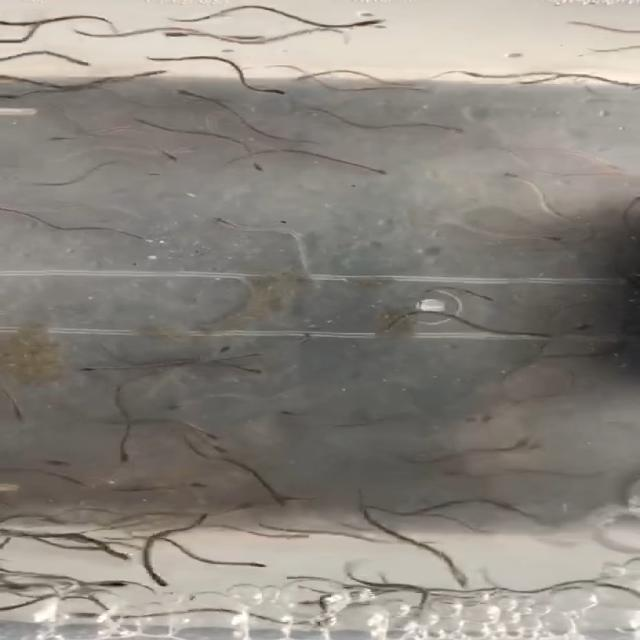active_glass_eel: (31, 451, 73, 468), (58, 607, 104, 622), (138, 570, 174, 589), (292, 65, 330, 83), (446, 570, 478, 590), (430, 120, 470, 136), (132, 68, 172, 83), (235, 559, 277, 573), (271, 408, 312, 422), (346, 16, 384, 31), (227, 366, 270, 378), (154, 149, 186, 165), (98, 578, 134, 592), (59, 56, 94, 70), (190, 425, 220, 441), (209, 217, 243, 231), (212, 341, 238, 359), (98, 548, 134, 561), (363, 162, 394, 177), (147, 30, 192, 40), (522, 233, 562, 244), (246, 157, 275, 172), (0, 89, 28, 104), (497, 169, 535, 180), (9, 402, 30, 421), (171, 87, 198, 101), (113, 450, 140, 464), (207, 440, 236, 453), (568, 321, 594, 335), (44, 132, 74, 144), (167, 400, 196, 412), (138, 167, 164, 180), (74, 365, 106, 375), (264, 88, 291, 98), (478, 294, 500, 306)
